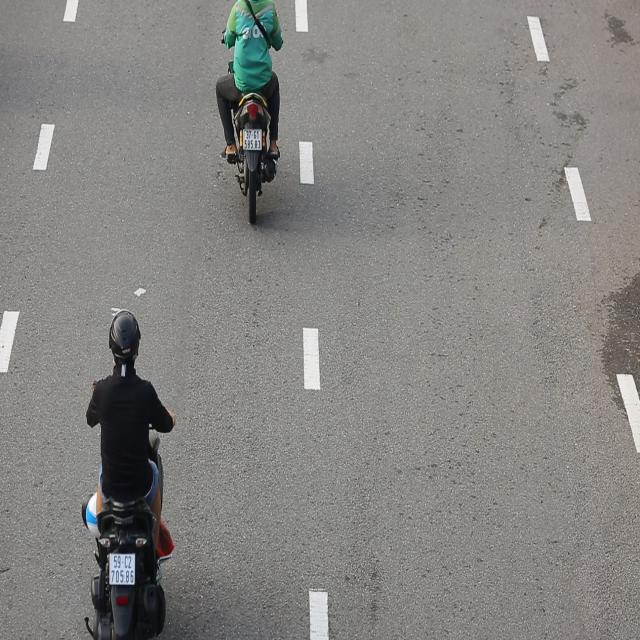motorbike: (81, 300, 174, 640)
